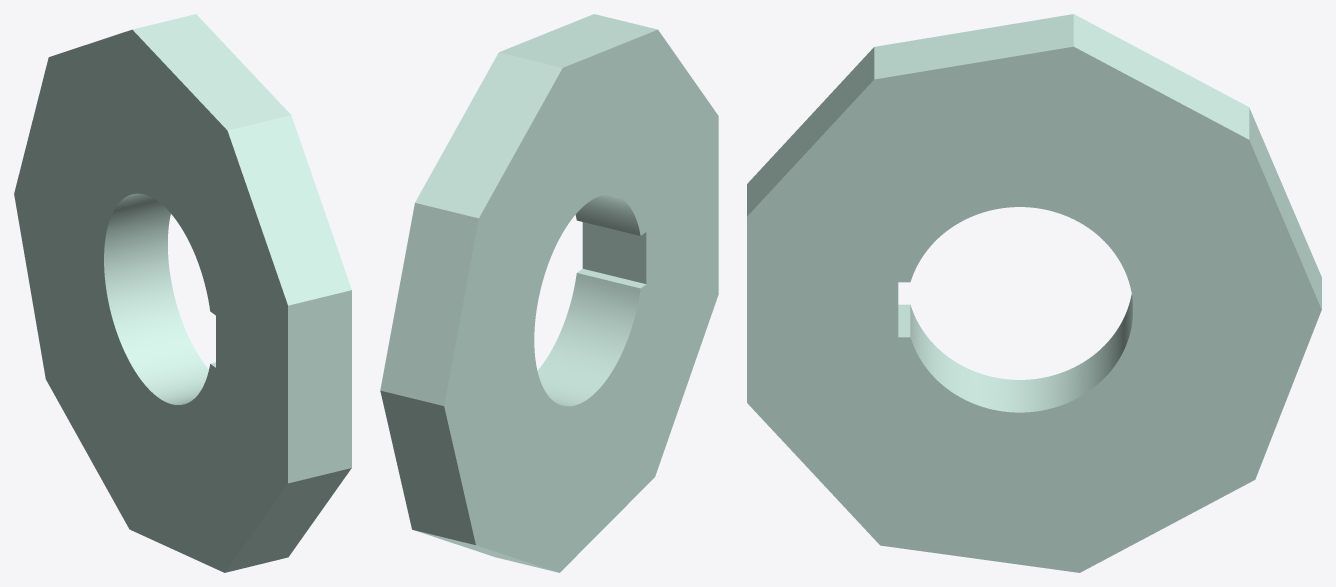
3 renders of one model, left to right at view 1: azimuth 30°, elevation 25°; view 2: azimuth 150°, elevation 25°; view 3: azimuth 270°, elevation 25°, orthographic. The views are drawn at different scales.
Visible parts, largest first — view 1: Renderer Node; view 2: Renderer Node; view 3: Renderer Node.
Part boxes in pixels (x1,y1,x2,y2): Renderer Node: [14, 14, 351, 572]; Renderer Node: [380, 14, 718, 572]; Renderer Node: [747, 14, 1321, 572].
Size of the model in its own units: 0.1953 by 1.47 by 1.45.
